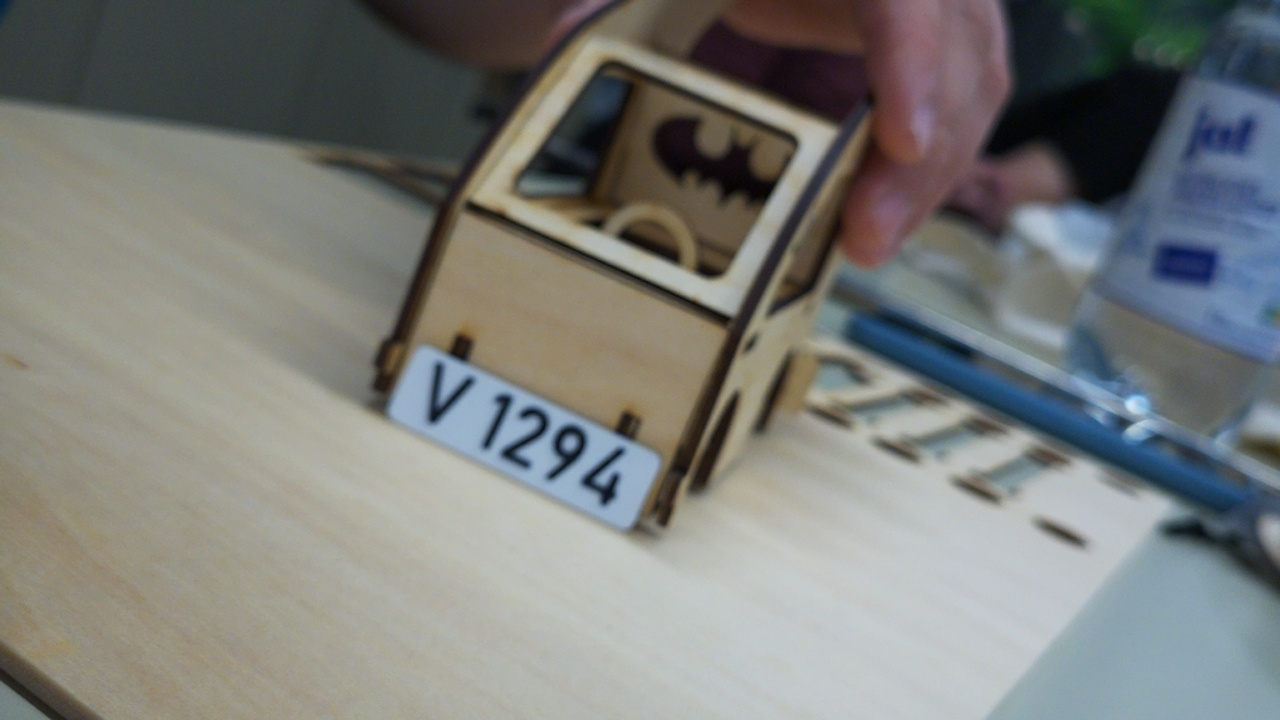license_plate: (386, 341, 663, 534)
